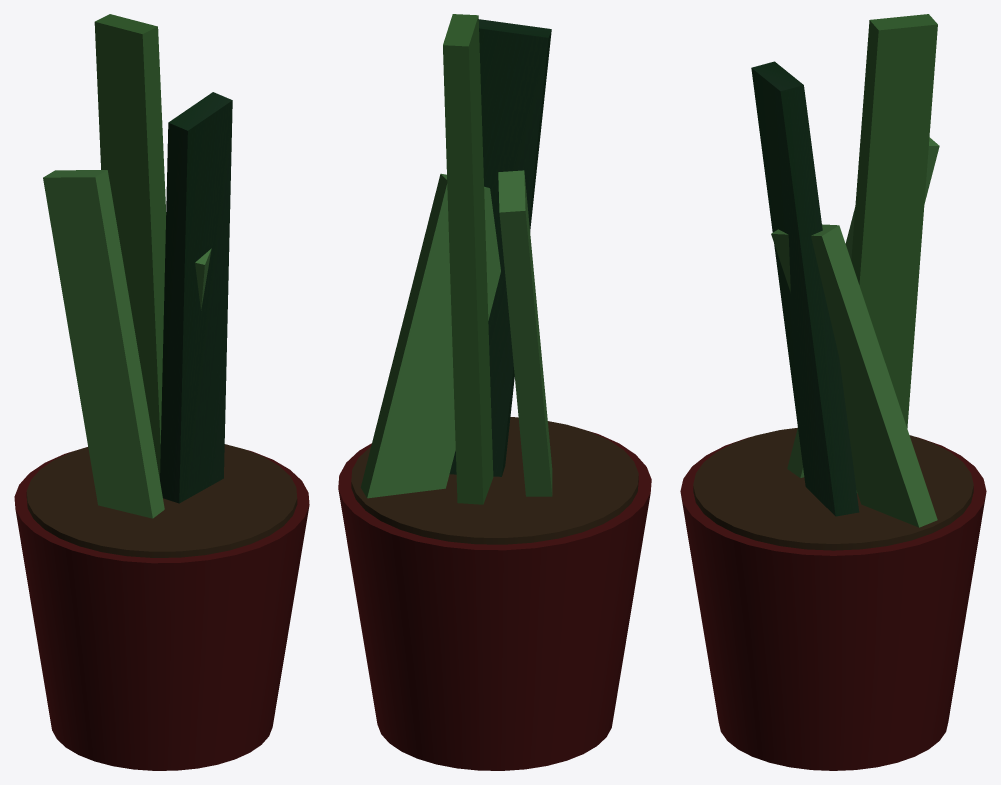
Rendered from state-default.glb.
3 renders of one model, left to right at view 1: azimuth 30°, elevation 25°; view 2: azimuth 150°, elevation 25°; view 3: azimuth 270°, elevation 25°, orthographic. The views are drawn at different scales.
Visible parts, largest first — view 1: assetPrim:1a72e35e19a66-19c73244ffc:pot-base, assetPrim:1a72e35e19a66-19c73244ffc:leaf-1, assetPrim:1a72e35e19a66-19c73244ffc:leaf-2, assetPrim:1a72e35e19a66-19c73244ffc:leaf-3, assetPrim:1a72e35e19a66-19c73244ffc:pot-soil; view 2: assetPrim:1a72e35e19a66-19c73244ffc:pot-base, assetPrim:1a72e35e19a66-19c73244ffc:leaf-3, assetPrim:1a72e35e19a66-19c73244ffc:leaf-4, assetPrim:1a72e35e19a66-19c73244ffc:pot-soil, assetPrim:1a72e35e19a66-19c73244ffc:leaf-1, assetPrim:1a72e35e19a66-19c73244ffc:leaf-2; view 3: assetPrim:1a72e35e19a66-19c73244ffc:pot-base, assetPrim:1a72e35e19a66-19c73244ffc:leaf-3, assetPrim:1a72e35e19a66-19c73244ffc:leaf-1, assetPrim:1a72e35e19a66-19c73244ffc:pot-soil, assetPrim:1a72e35e19a66-19c73244ffc:leaf-4, assetPrim:1a72e35e19a66-19c73244ffc:leaf-2.
Part boxes in pixels (x1=…): assetPrim:1a72e35e19a66-19c73244ffc:pot-base: x1=14, y1=448, x2=309, y2=770; assetPrim:1a72e35e19a66-19c73244ffc:leaf-1: x1=160, y1=92, x2=232, y2=503; assetPrim:1a72e35e19a66-19c73244ffc:leaf-2: x1=43, y1=170, x2=164, y2=518; assetPrim:1a72e35e19a66-19c73244ffc:leaf-3: x1=94, y1=14, x2=166, y2=479; assetPrim:1a72e35e19a66-19c73244ffc:pot-soil: x1=26, y1=444, x2=297, y2=557; assetPrim:1a72e35e19a66-19c73244ffc:pot-base: x1=338, y1=426, x2=651, y2=770; assetPrim:1a72e35e19a66-19c73244ffc:leaf-3: x1=443, y1=14, x2=493, y2=504; assetPrim:1a72e35e19a66-19c73244ffc:leaf-4: x1=360, y1=173, x2=500, y2=498; assetPrim:1a72e35e19a66-19c73244ffc:pot-soil: x1=351, y1=417, x2=638, y2=544; assetPrim:1a72e35e19a66-19c73244ffc:leaf-1: x1=449, y1=19, x2=551, y2=476; assetPrim:1a72e35e19a66-19c73244ffc:leaf-2: x1=498, y1=170, x2=552, y2=496; assetPrim:1a72e35e19a66-19c73244ffc:pot-base: x1=680, y1=437, x2=986, y2=770; assetPrim:1a72e35e19a66-19c73244ffc:leaf-3: x1=851, y1=14, x2=937, y2=493; assetPrim:1a72e35e19a66-19c73244ffc:leaf-1: x1=751, y1=61, x2=859, y2=516; assetPrim:1a72e35e19a66-19c73244ffc:pot-soil: x1=693, y1=427, x2=973, y2=550; assetPrim:1a72e35e19a66-19c73244ffc:leaf-4: x1=771, y1=224, x2=937, y2=527; assetPrim:1a72e35e19a66-19c73244ffc:leaf-2: x1=787, y1=137, x2=939, y2=477.
Bounding box in the file's own units: 0.12 × 0.3035 × 0.12.
6 materials, 1 textured.
